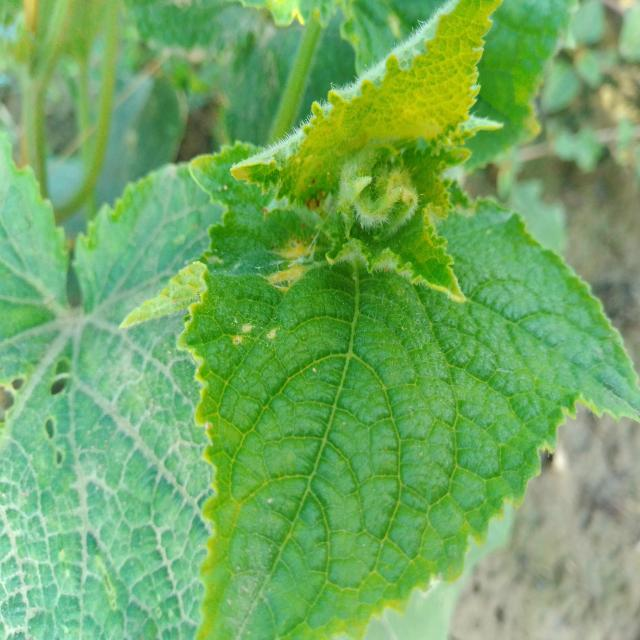cucumber_healthy: (115, 191, 640, 640), (0, 105, 217, 640), (226, 1, 505, 312)
